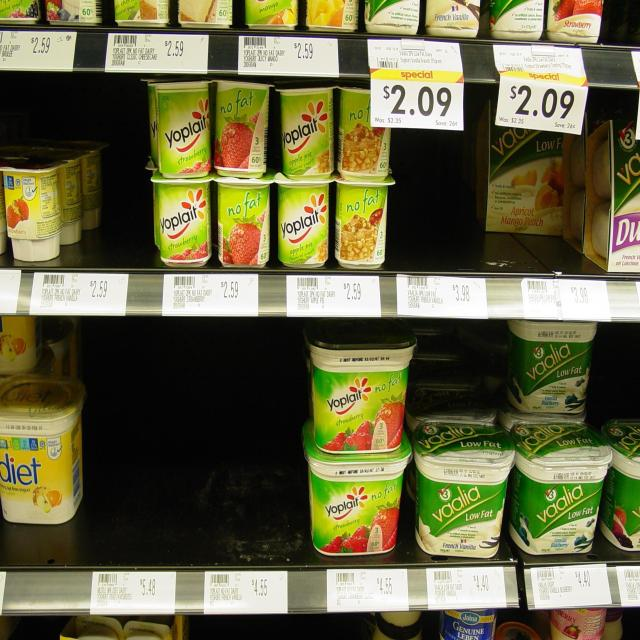empty_space: (93, 351, 299, 551), (401, 138, 478, 256), (95, 95, 145, 257)
